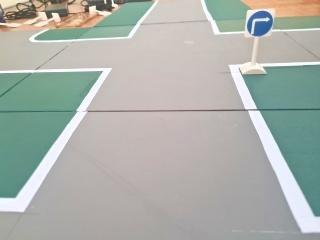right: (244, 8, 275, 39)
